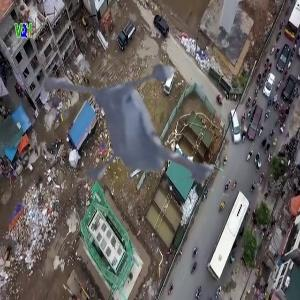drone: (54, 27, 265, 238)
